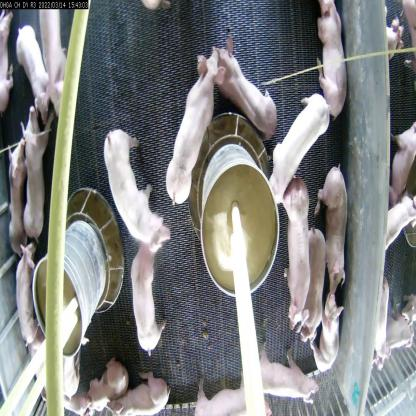Pig: (103, 124, 170, 256), (205, 36, 283, 142), (164, 55, 216, 208), (270, 90, 331, 201), (307, 1, 355, 127), (238, 332, 314, 408), (314, 156, 346, 300), (129, 240, 164, 361), (282, 167, 308, 329), (34, 0, 72, 108), (6, 121, 32, 256), (24, 92, 47, 239), (113, 363, 174, 416), (12, 19, 45, 110), (311, 282, 342, 375), (82, 350, 125, 416), (300, 225, 324, 343), (10, 233, 33, 335), (194, 386, 270, 416)
